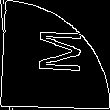M_W: (28, 31, 82, 79)
